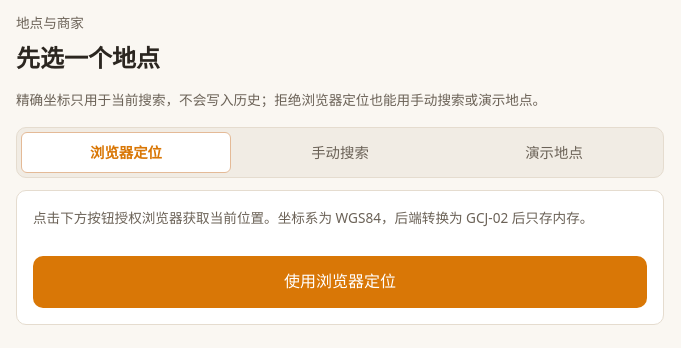
Scenario: /nearby 地点选择页（P3-01） › 3) 手动搜索：空关键词 → 不发请求，显示错误提示
Click the tab with test id "tab-manual": (340,152) left=235, top=132, right=445, bottom=173
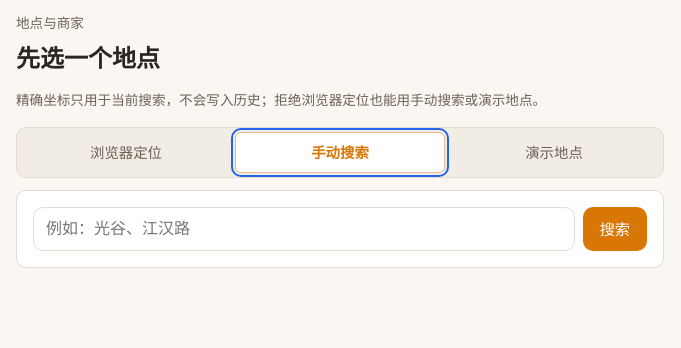
Click the button with test id "search-submit": (615,229) left=583, top=207, right=647, bottom=251
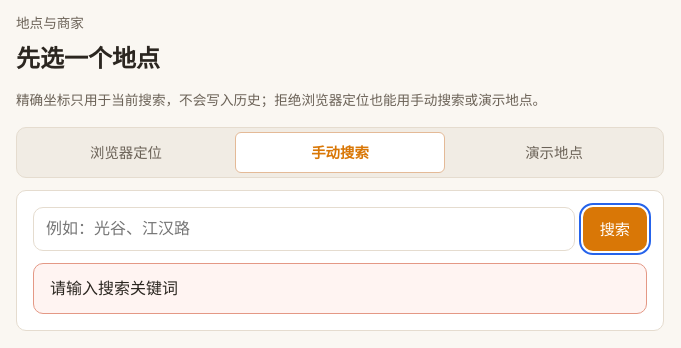
Expected: the message reads "请输入搜索关键词", left=50, top=277, right=178, bottom=299
